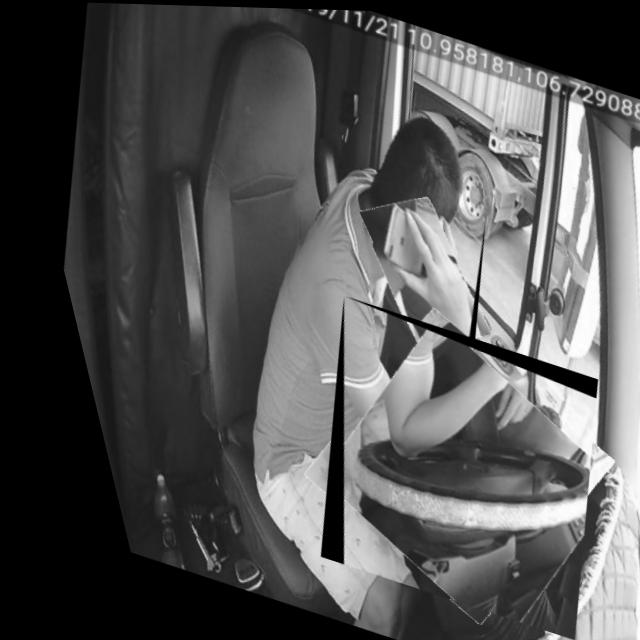phone: (323, 183, 502, 360)
wheel: (245, 292, 630, 640)
